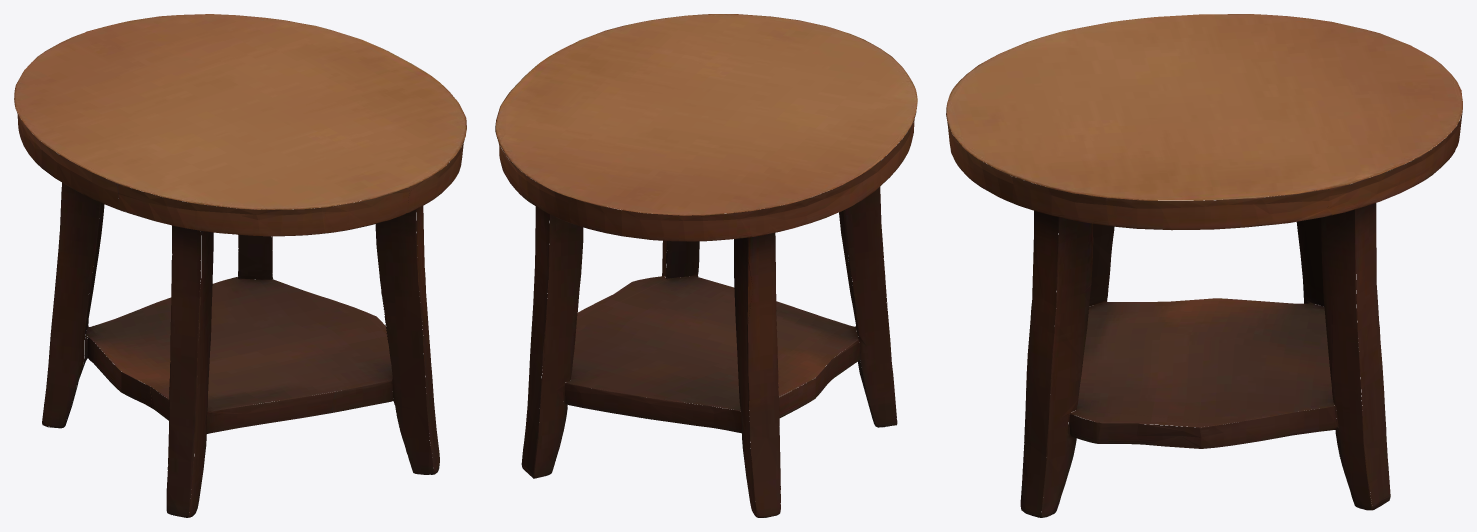
The model's file is round_endtable.glb.
The picture shows the model from 3 angles, left to right: view 1: azimuth 30°, elevation 25°; view 2: azimuth 150°, elevation 25°; view 3: azimuth 270°, elevation 25°; orthographic projection. The views are drawn at different scales.
Parts seen in each view (by area): view 1: geometry_0; view 2: geometry_0; view 3: geometry_0.
Part boxes in pixels (x1=…): geometry_0: x1=14, y1=14, x2=466, y2=517; geometry_0: x1=495, y1=14, x2=917, y2=517; geometry_0: x1=946, y1=14, x2=1462, y2=517.
Bounding box in the file's own units: 0.8566 × 0.7462 × 1.
Materials: 1 (1 with a texture image).
